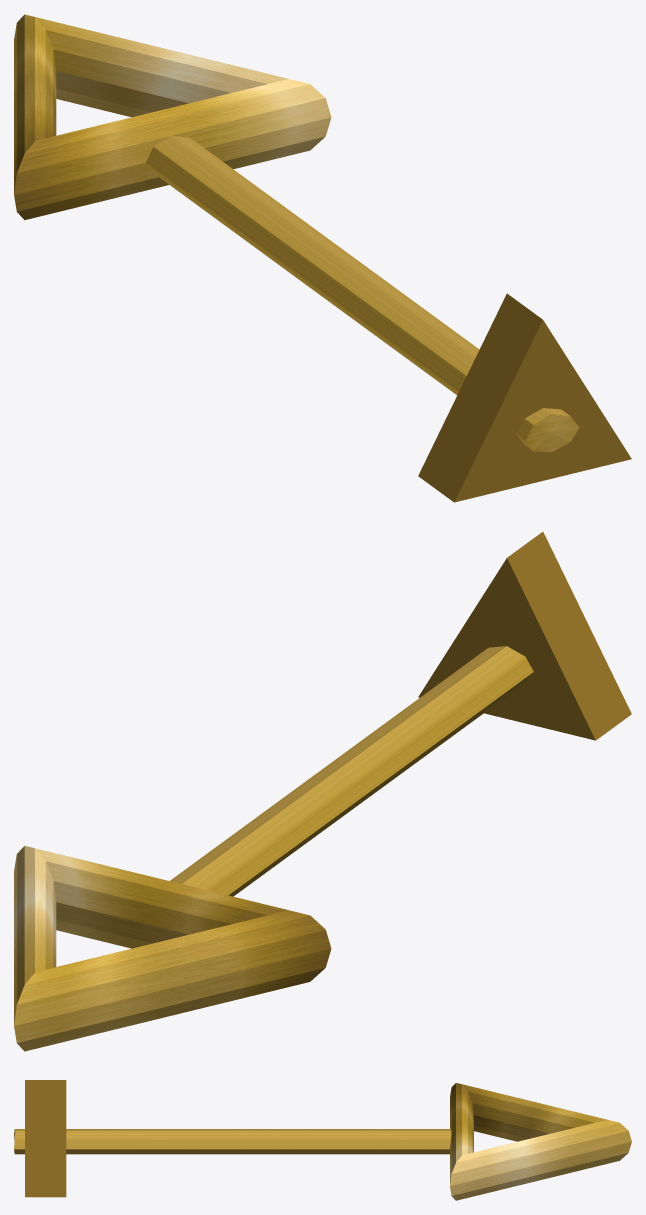
File: trianglekey.gltf
3 views of the same model, one above another, from view 1: azimuth 30°, elevation 25°; view 2: azimuth 150°, elevation 25°; view 3: azimuth 270°, elevation 25° (orthographic). The views are drawn at different scales.
Parts seen in each view (by area): view 1: Torus.003, Circle, Torus; view 2: Torus.003, Torus, Circle; view 3: Torus.003, Torus, Circle.
Boxes of the visible parts, bbox=[...] form: Torus.003: bbox=[14, 14, 331, 220]; Circle: bbox=[418, 293, 631, 502]; Torus: bbox=[146, 136, 579, 452]; Torus.003: bbox=[14, 845, 331, 1051]; Torus: bbox=[170, 646, 533, 896]; Circle: bbox=[418, 532, 631, 740]; Torus.003: bbox=[450, 1083, 631, 1200]; Torus: bbox=[14, 1129, 451, 1154]; Circle: bbox=[25, 1080, 66, 1197].
Bounding box in the file's own units: 2.17 × 1.05 × 6.36.
Materials: 3 (3 with a texture image).
